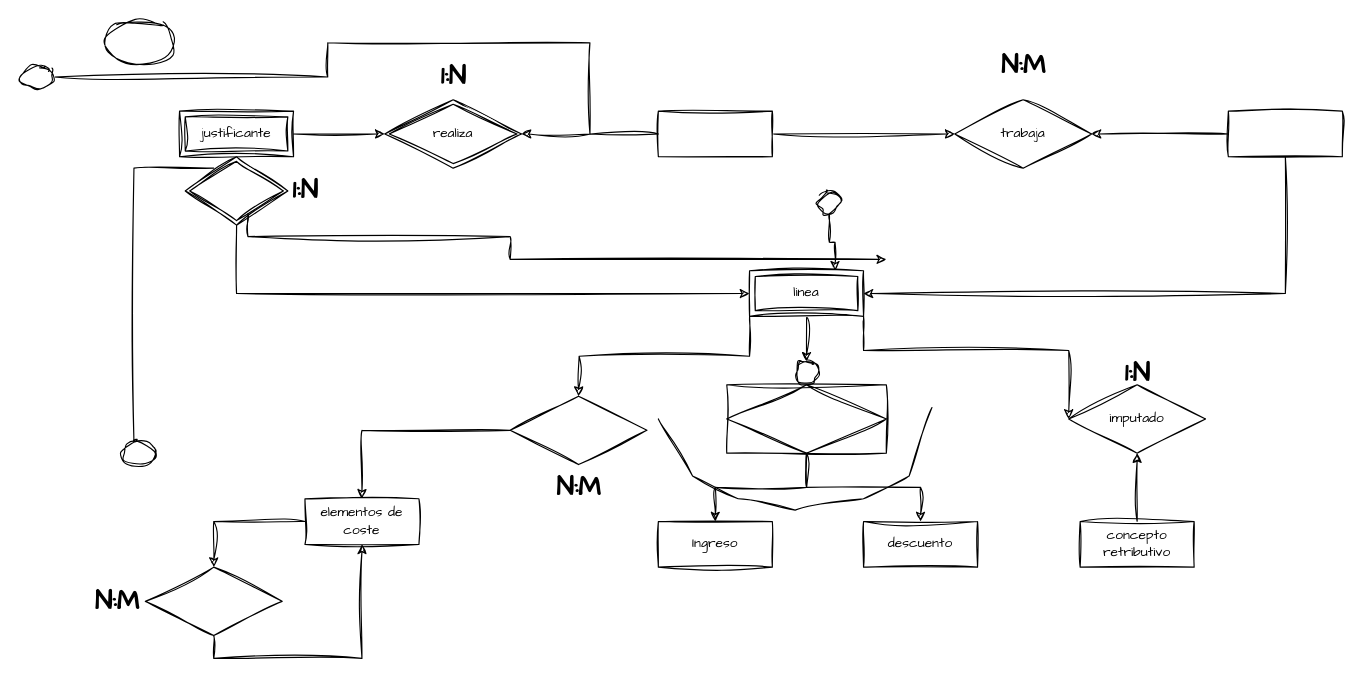
Some shapes in this 1362 by 687 pixel diagram are drawn without their labels. Here are the shapes that lost their labels. From the top down, the centre of each, then its label:
At (139,42): "Attribute".
At (714,133): "Empleado".
At (1284,133): "DEpartamento".
At (578,430): "imputa".
At (213,601): "reflexiva".
